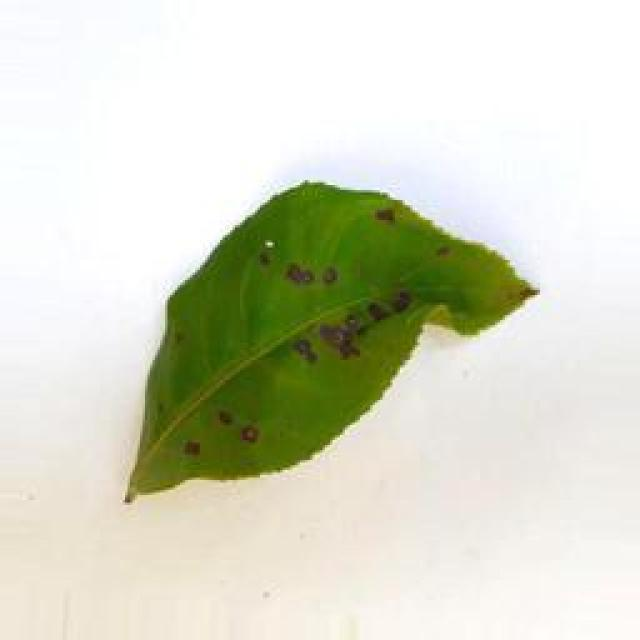Helopeltis: (120, 181, 543, 505)
